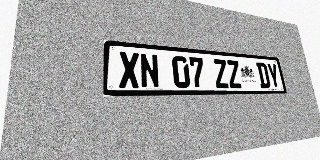0: (171, 55, 190, 88)
7: (188, 57, 206, 88)
D: (256, 62, 271, 88)
N: (139, 53, 160, 88)
X: (118, 51, 140, 88)
Y: (266, 63, 281, 88)
Z: (212, 59, 230, 88), (226, 60, 242, 88)
